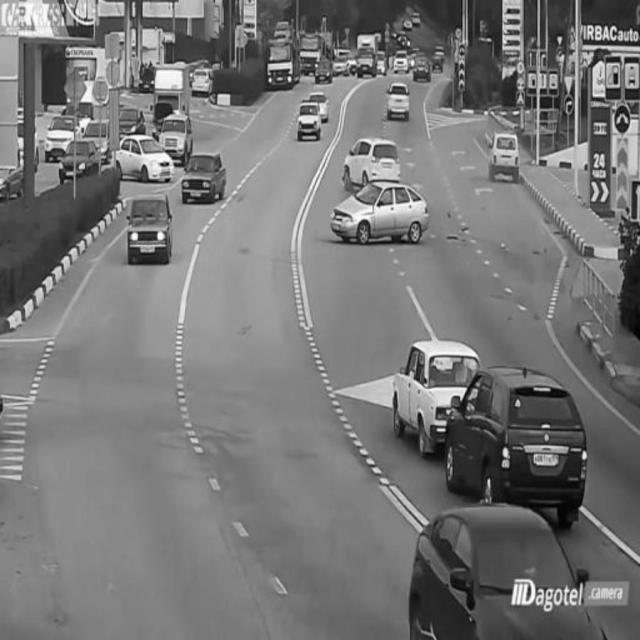vehicle: (418, 513, 600, 637), (444, 374, 588, 508), (387, 342, 480, 448), (329, 183, 429, 241), (123, 198, 171, 274), (113, 128, 175, 184), (341, 132, 399, 189), (58, 127, 100, 188), (183, 149, 227, 207), (485, 130, 525, 178), (266, 30, 296, 91), (161, 111, 196, 162), (296, 89, 326, 146), (43, 111, 75, 163), (349, 32, 379, 77), (188, 56, 216, 96), (385, 81, 413, 121), (411, 54, 435, 84)
